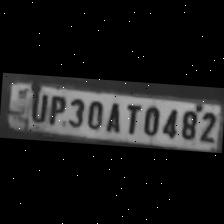0: (138, 101, 160, 136), (84, 94, 104, 128)
2: (196, 106, 218, 142)
3: (64, 92, 84, 127)
4: (158, 104, 179, 138)
8: (176, 104, 197, 140)
A: (102, 97, 122, 132)
P: (44, 91, 66, 125)
T: (120, 99, 140, 134)
U: (26, 88, 49, 122)
